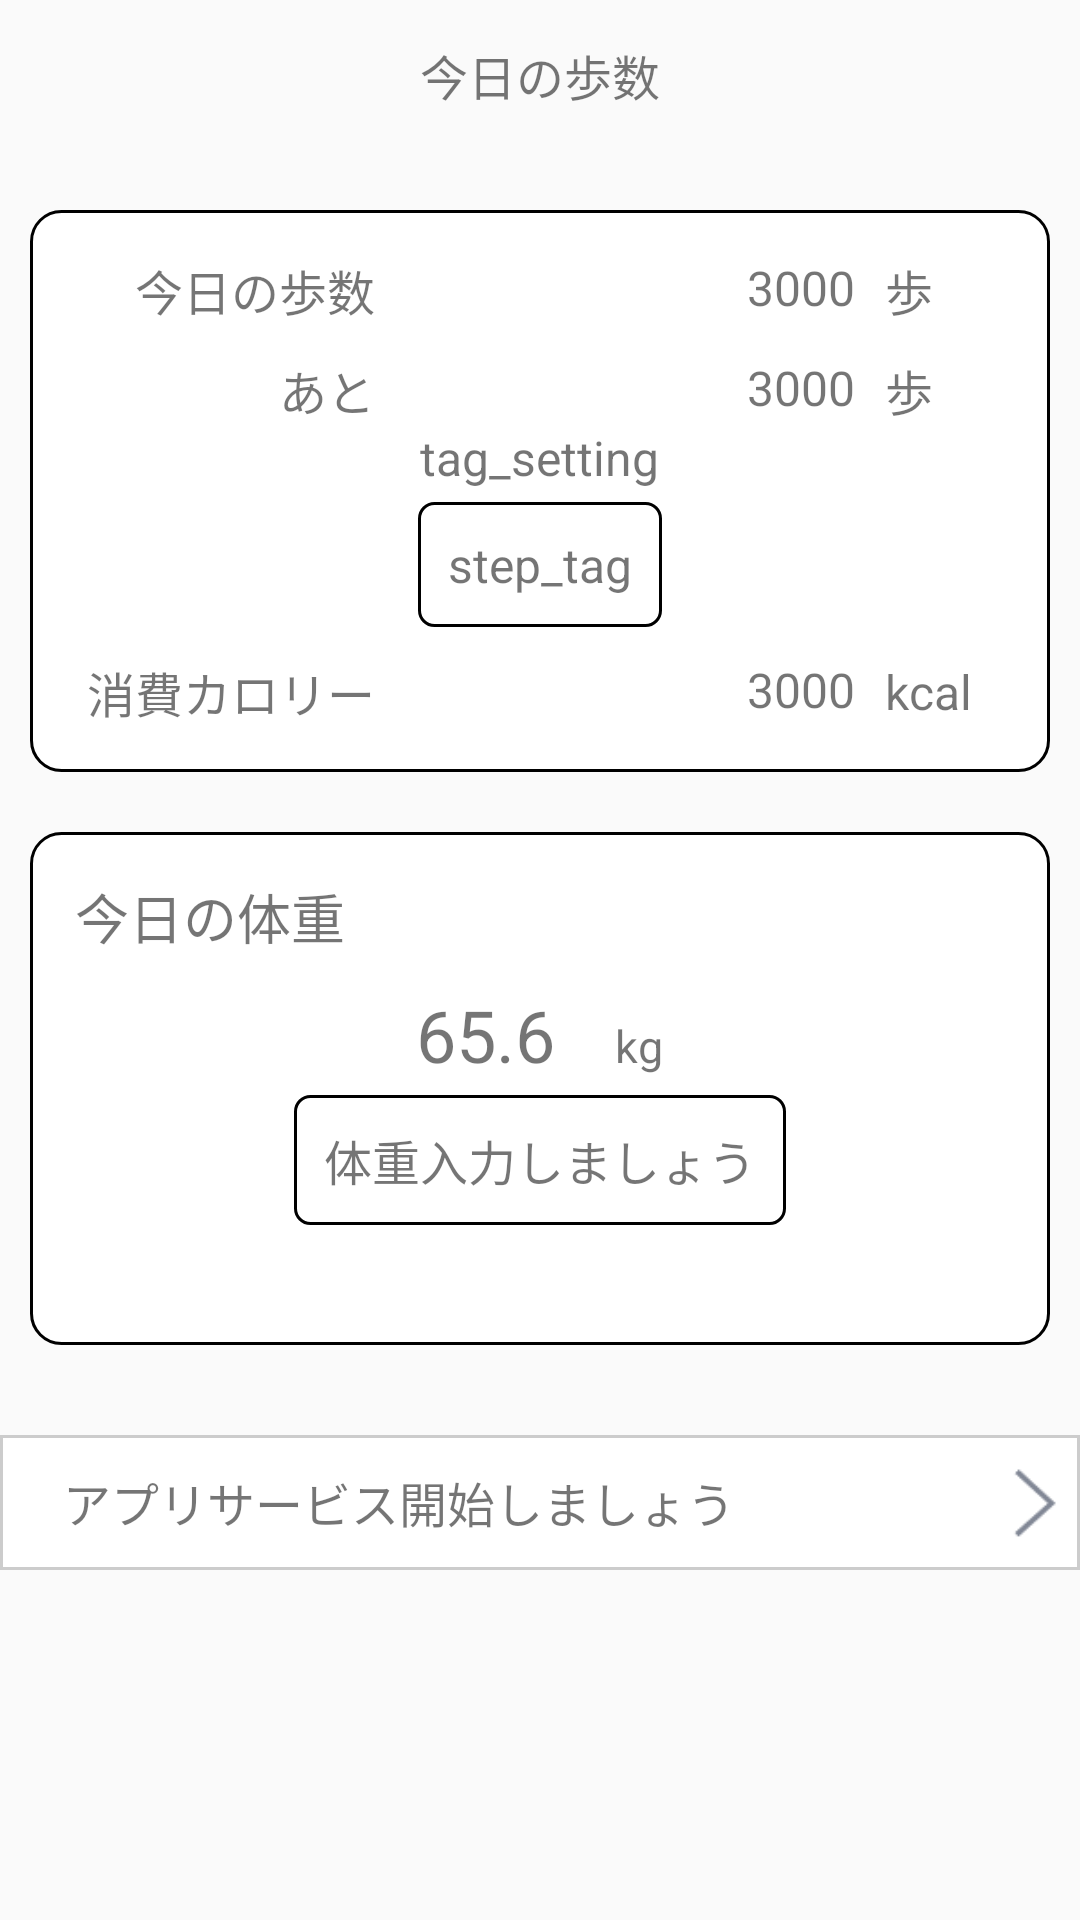

Named icons in this screenshot (1080px x 1920px) and their centers, point (x, y):
arrow right: point (1035, 1503)
